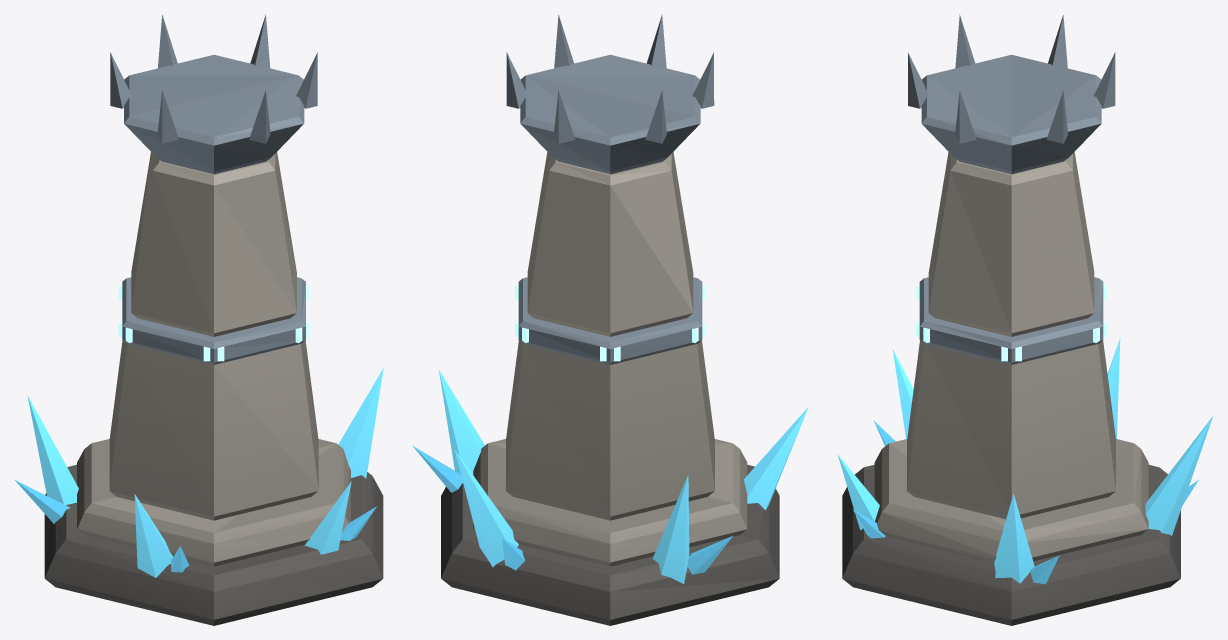
File: frost_tower.glb
3 renders of one model, left to right at view 1: azimuth 30°, elevation 25°; view 2: azimuth 150°, elevation 25°; view 3: azimuth 270°, elevation 25°, orthographic.
Parts seen in each view (by area): view 1: frost_tower; view 2: frost_tower; view 3: frost_tower.
Boxes of the visible parts, left/top/right/bottom form: frost_tower: left=15, top=14, right=383, bottom=625; frost_tower: left=413, top=14, right=808, bottom=625; frost_tower: left=837, top=14, right=1212, bottom=625.
Size of the model in its own units: 0.9532 by 1.32 by 0.9037.
